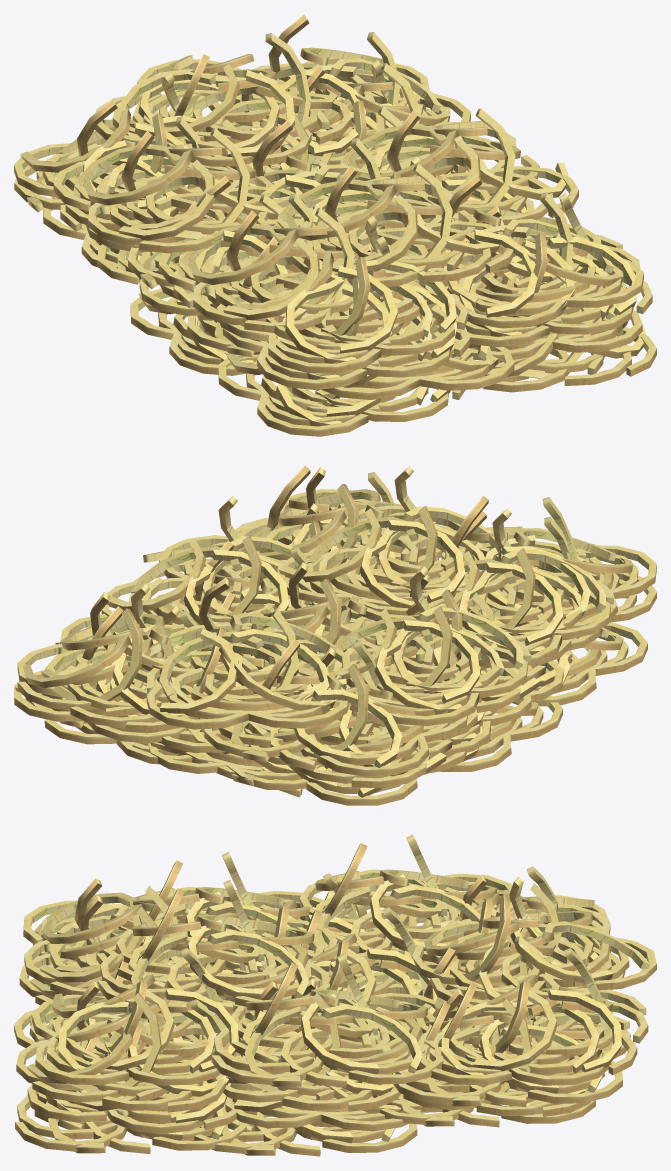
Rendered from soganlar.fbx.
3 views of the same model, one above another, from view 1: azimuth 30°, elevation 25°; view 2: azimuth 150°, elevation 25°; view 3: azimuth 270°, elevation 25° (orthographic). The views are drawn at different scales.
Visible parts, largest first — view 1: s14, s13, s19, s16, s8, s20, s3, s18, s17, s15, s7, s12 (+7 smaller); view 2: s14, s16, s19, s20, s15, s17, s18, s12, s13, s5, s4, s9 (+6 smaller); view 3: s13, s17, s15, s16, s20, s8, s19, s14, s12, s7, s3, s18 (+7 smaller).
Part boxes in pixels (x1=…): s14: x1=14, y1=72, x2=468, y2=373; s13: x1=194, y1=120, x2=643, y2=328; s19: x1=53, y1=128, x2=312, y2=253; s16: x1=94, y1=33, x2=354, y2=166; s8: x1=223, y1=193, x2=652, y2=390; s20: x1=256, y1=163, x2=514, y2=288; s3: x1=218, y1=272, x2=656, y2=436; s18: x1=158, y1=207, x2=416, y2=332; s17: x1=319, y1=108, x2=578, y2=227; s15: x1=208, y1=14, x2=470, y2=165; s7: x1=315, y1=206, x2=642, y2=399; s12: x1=14, y1=63, x2=479, y2=252; s14: x1=204, y1=496, x2=656, y2=776; s16: x1=127, y1=577, x2=350, y2=729; s19: x1=297, y1=566, x2=531, y2=726; s20: x1=277, y1=466, x2=508, y2=621; s15: x1=17, y1=592, x2=250, y2=732; s17: x1=101, y1=495, x2=330, y2=654; s18: x1=418, y1=508, x2=613, y2=668; s12: x1=14, y1=583, x2=477, y2=788; s13: x1=238, y1=467, x2=442, y2=674; s5: x1=147, y1=603, x2=531, y2=790; s4: x1=44, y1=606, x2=468, y2=805; s9: x1=146, y1=575, x2=571, y2=753; s13: x1=31, y1=907, x2=437, y2=1085; s17: x1=211, y1=954, x2=451, y2=1087; s15: x1=414, y1=948, x2=648, y2=1085; s16: x1=412, y1=877, x2=656, y2=1018; s20: x1=98, y1=880, x2=337, y2=1013; s8: x1=16, y1=895, x2=228, y2=1112; s19: x1=285, y1=834, x2=512, y2=962; s14: x1=23, y1=875, x2=628, y2=999; s12: x1=383, y1=866, x2=630, y2=1106; s7: x1=14, y1=952, x2=268, y2=1133; s3: x1=15, y1=1020, x2=246, y2=1153; s18: x1=96, y1=852, x2=332, y2=980.
Size of the model in its own units: 60.59 by 27.02 by 81.15.
Materials: 1 (1 with a texture image).
